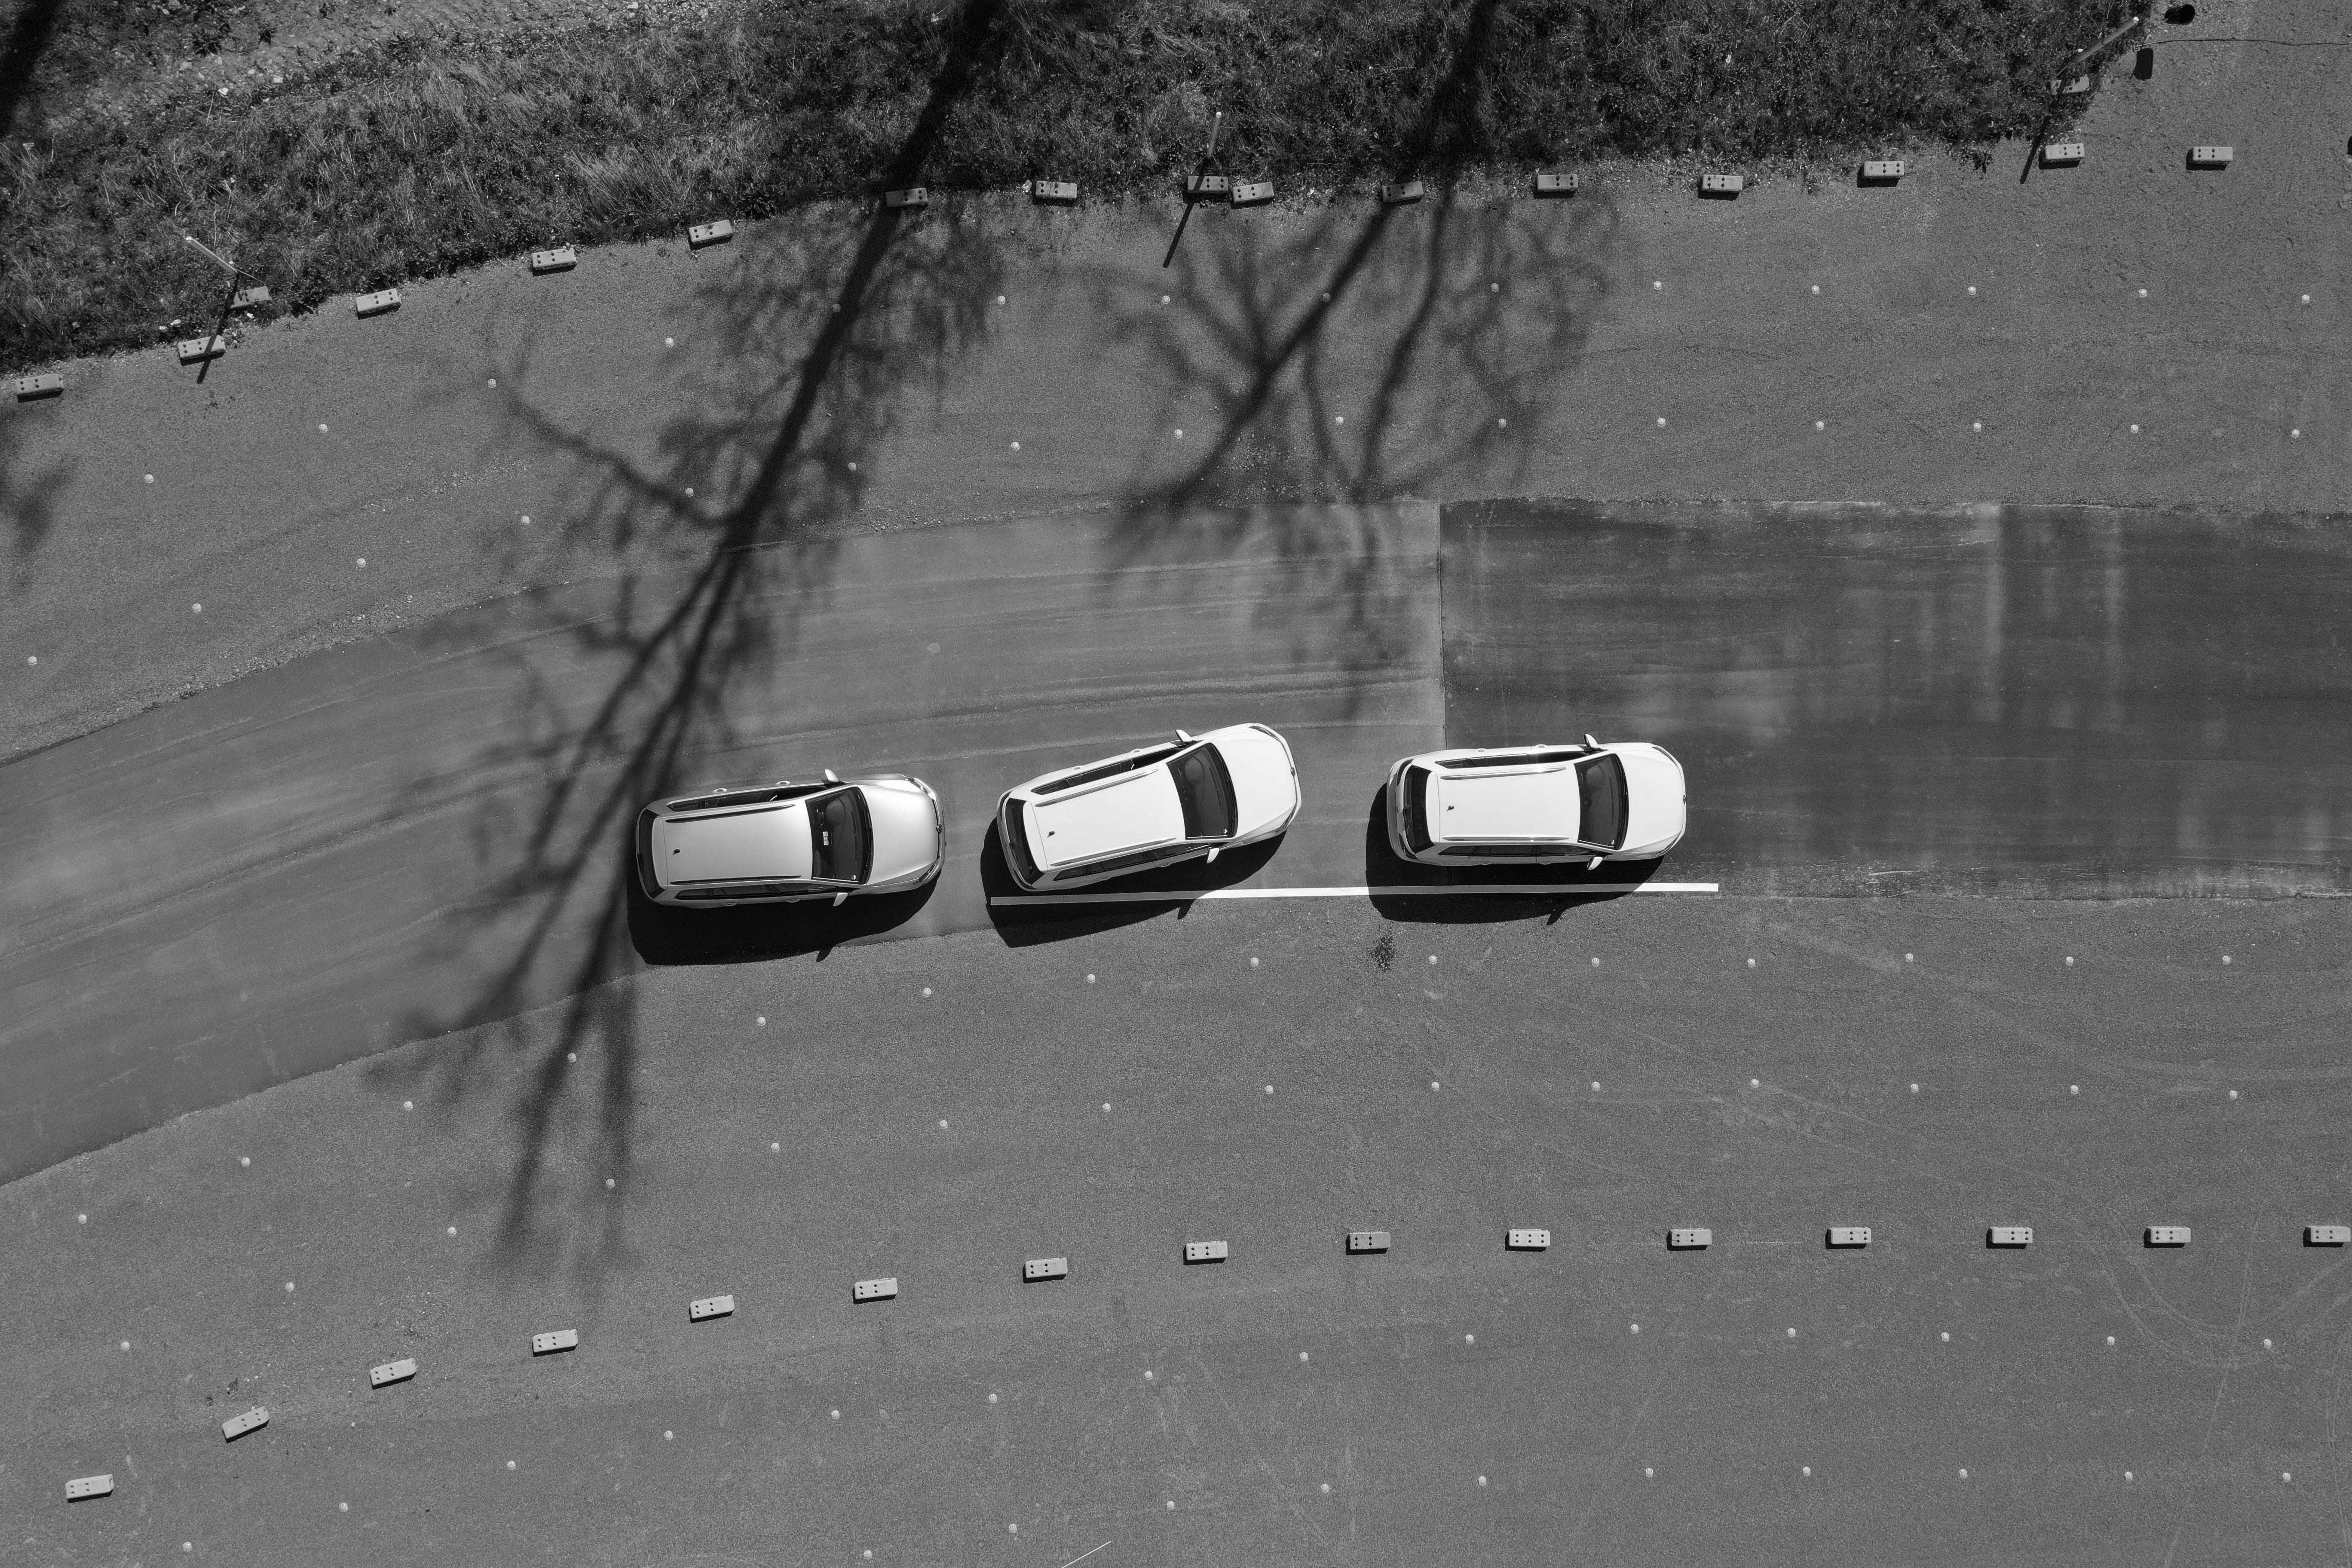Car: (992, 717, 1311, 898), (1370, 730, 1692, 880), (625, 765, 945, 910)
LaneMark: (983, 882, 1724, 908)
